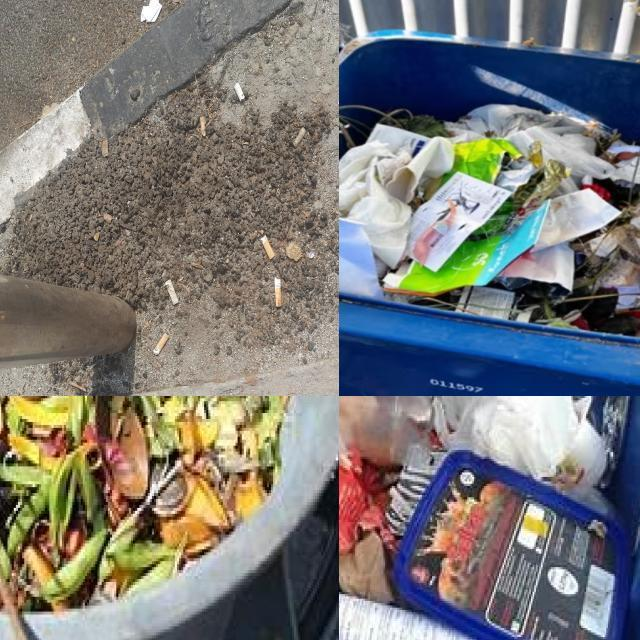Background: (0, 21, 339, 396)
Cig_bud: (164, 280, 179, 305), (260, 235, 275, 259), (153, 333, 169, 355), (293, 127, 307, 148), (274, 277, 282, 307), (234, 82, 245, 102)
Garbage: (339, 396, 630, 640), (339, 104, 640, 337), (0, 396, 299, 607)
Plastic_Bag: (447, 104, 616, 180), (533, 190, 621, 251), (498, 243, 574, 292)
Plastic_Container: (393, 447, 630, 640)
Plastic_bottle: (339, 396, 437, 471)
Plastic_wraper: (396, 201, 549, 294), (471, 159, 568, 240), (573, 396, 631, 487), (339, 451, 389, 555), (441, 138, 520, 184)
